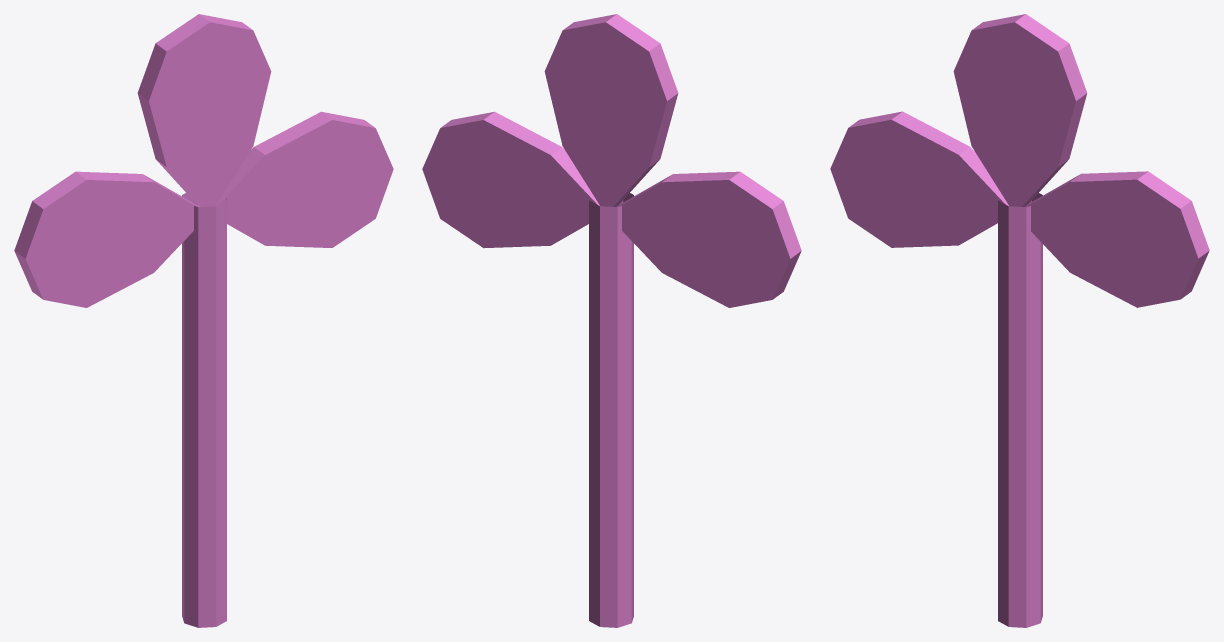
File: klee_TEST.glb
3 views of the same model, side by side, from view 1: azimuth 30°, elevation 25°; view 2: azimuth 150°, elevation 25°; view 3: azimuth 330°, elevation 25° (orthographic).
Visible parts, largest first — view 1: klee; view 2: klee; view 3: klee.
Part boxes in pixels (x1,y1,x2,y2): klee: (14,14,393,627); klee: (422,14,801,627); klee: (830,14,1209,627).
Size of the model in its own units: 0.29 by 0.4517 by 0.0319.
